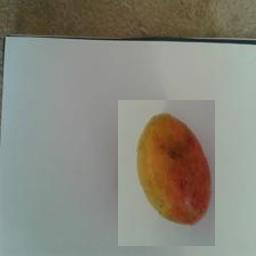Mango Semifresh: (118, 100, 215, 246)
